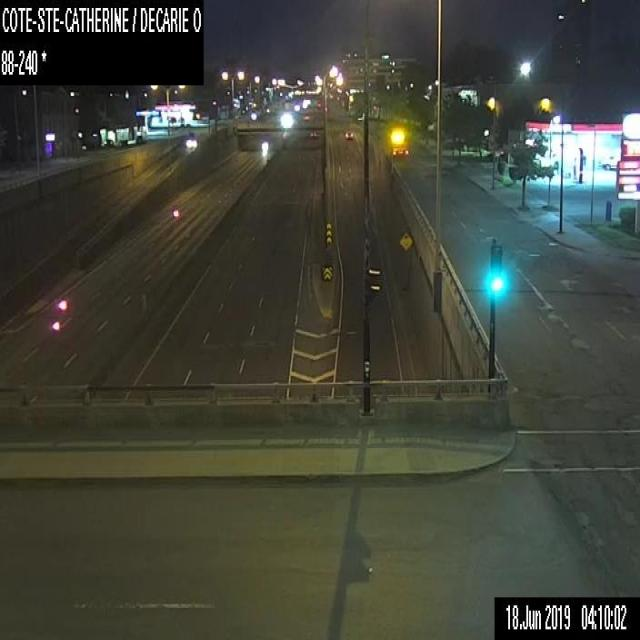vehicle: (392, 146, 408, 157), (343, 128, 352, 138)
